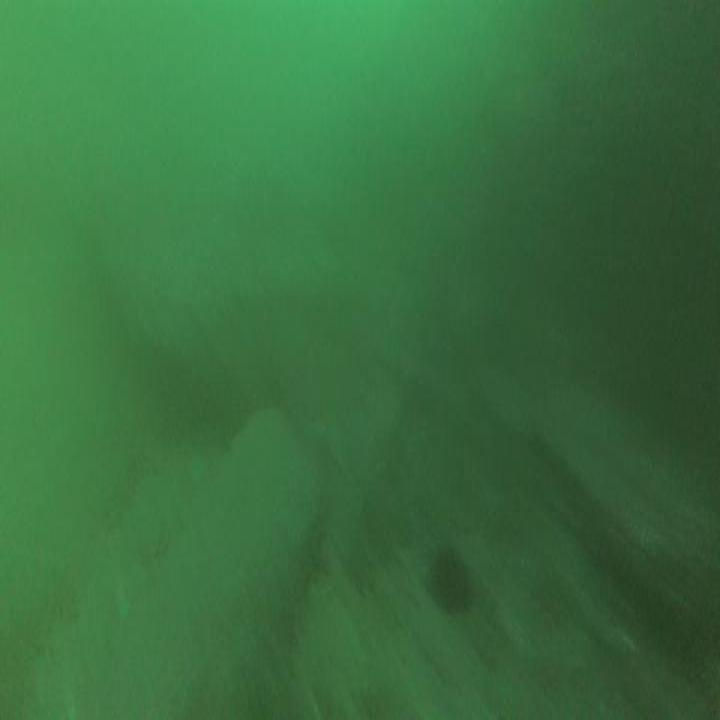echinus: (424, 535, 476, 626)
